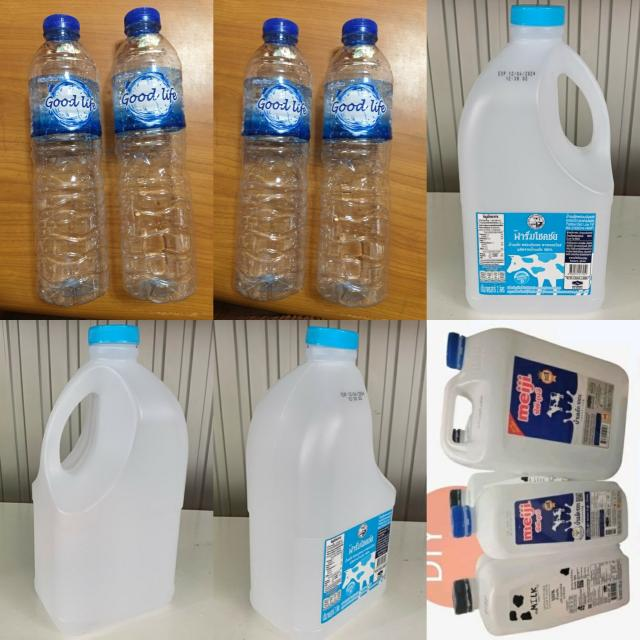plastik: (32, 325, 188, 634), (458, 5, 614, 313), (246, 327, 395, 637), (440, 328, 629, 480), (112, 9, 198, 303), (29, 15, 110, 306), (234, 18, 312, 300), (318, 19, 394, 307), (452, 544, 628, 635), (451, 473, 628, 559)
